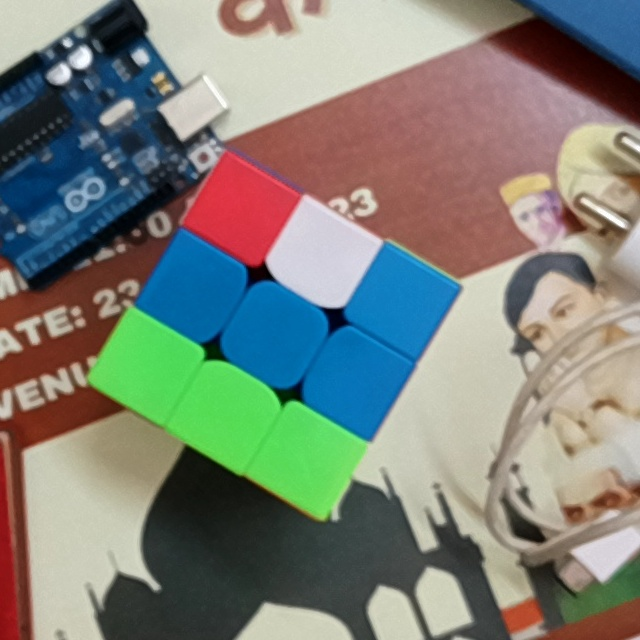tile: (275, 430, 342, 492), (194, 384, 258, 447), (244, 303, 307, 366), (289, 222, 350, 286), (325, 347, 386, 411), (167, 255, 228, 318), (369, 272, 433, 330), (116, 335, 177, 395), (213, 182, 272, 241)
